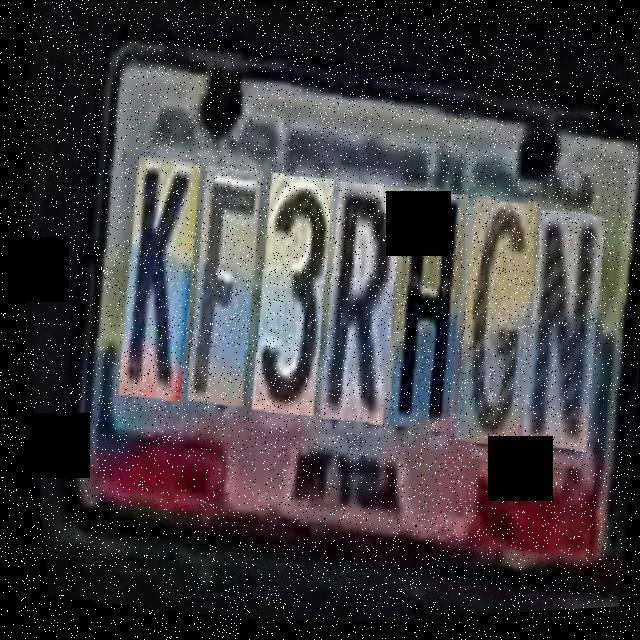3: (232, 161, 343, 411)
F: (169, 156, 272, 403)
G: (437, 180, 548, 434)
H: (369, 173, 478, 421)
K: (99, 150, 210, 400)
N: (503, 190, 615, 437)
R: (301, 167, 413, 417)
